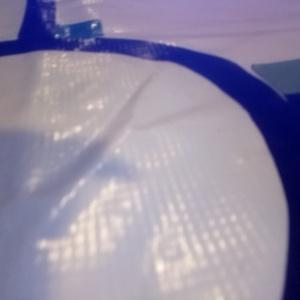top_right: (250, 57, 300, 118), (23, 19, 103, 49)
